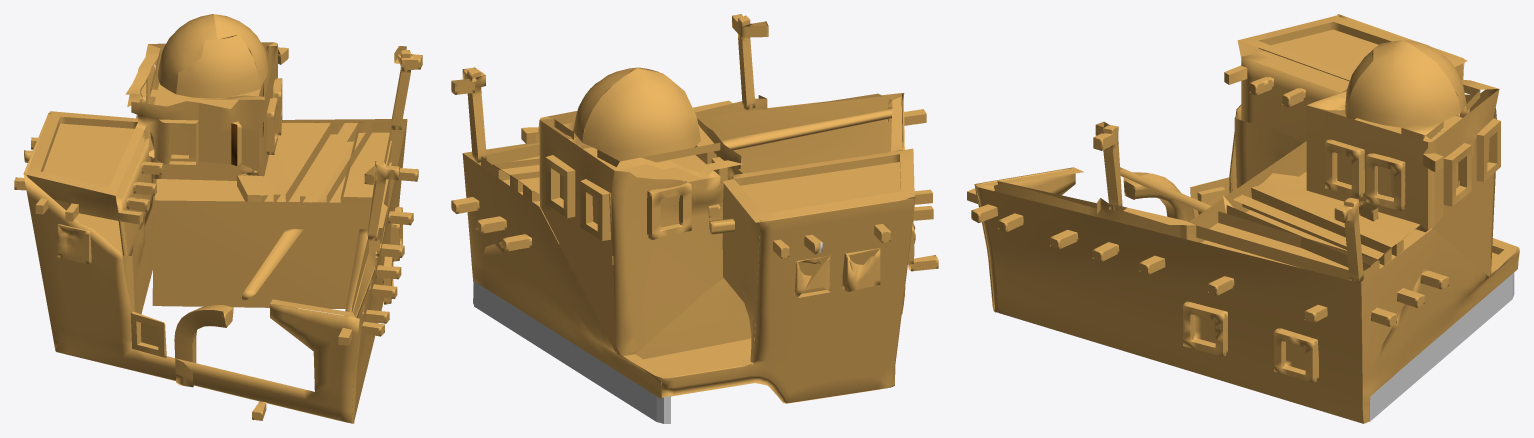
The model's file is buildings_13.fbx.
3 views of the same model, side by side, from view 1: azimuth 30°, elevation 25°; view 2: azimuth 150°, elevation 25°; view 3: azimuth 270°, elevation 25° (orthographic). The views are drawn at different scales.
Visible parts, largest first — view 1: Retopo_Adobe_Express_file_Three_dimensional_model_of_a__2211 (×10); view 2: Retopo_Adobe_Express_file_Three_dimensional_model_of_a__2211 (×8); view 3: Retopo_Adobe_Express_file_Three_dimensional_model_of_a__2211 (×11).
Boxes of the visible parts, x1,y1,x2,y2 form: Retopo_Adobe_Express_file_Three_dimensional_model_of_a__2211 (×10): [23, 14, 422, 423]; Retopo_Adobe_Express_file_Three_dimensional_model_of_a__2211 (×8): [451, 14, 933, 423]; Retopo_Adobe_Express_file_Three_dimensional_model_of_a__2211 (×11): [967, 14, 1519, 423].
Size of the model in its own units: 4699 by 2944 by 4991.
